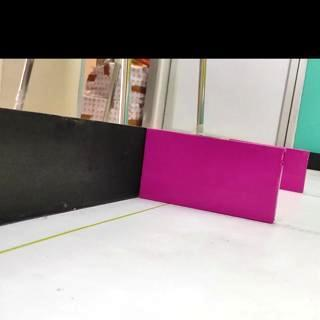xparking: (139, 127, 286, 224), (281, 150, 310, 194)
